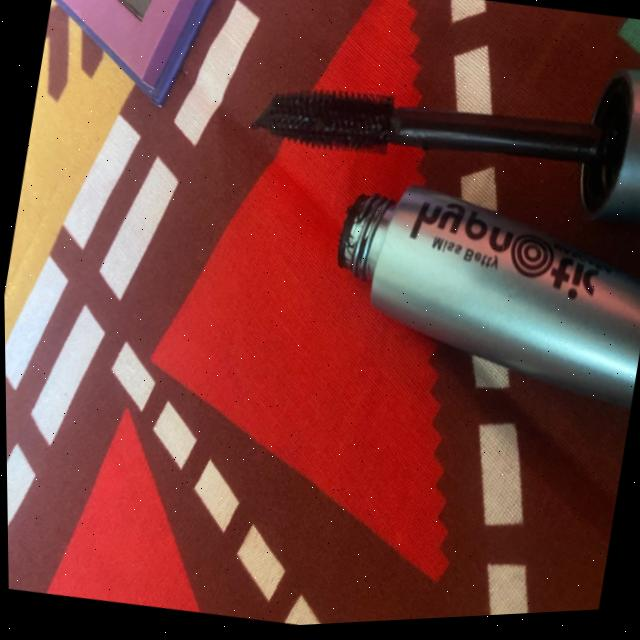mascara: (219, 0, 640, 252)
